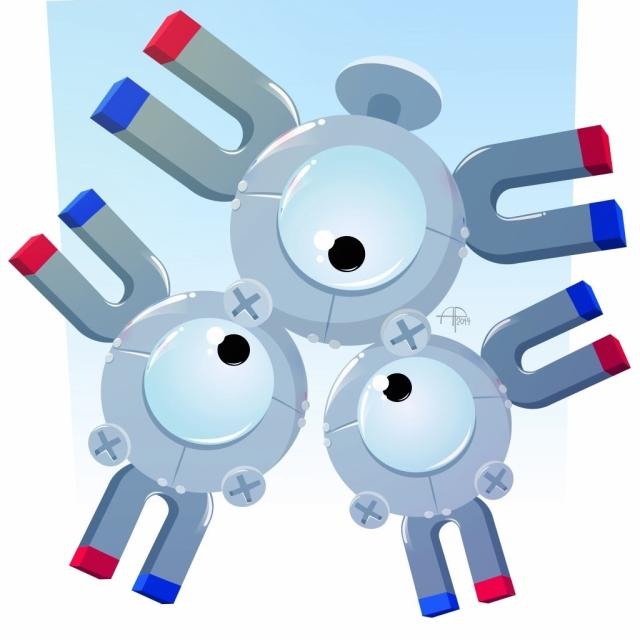Magneton: (87, 49, 556, 547)
